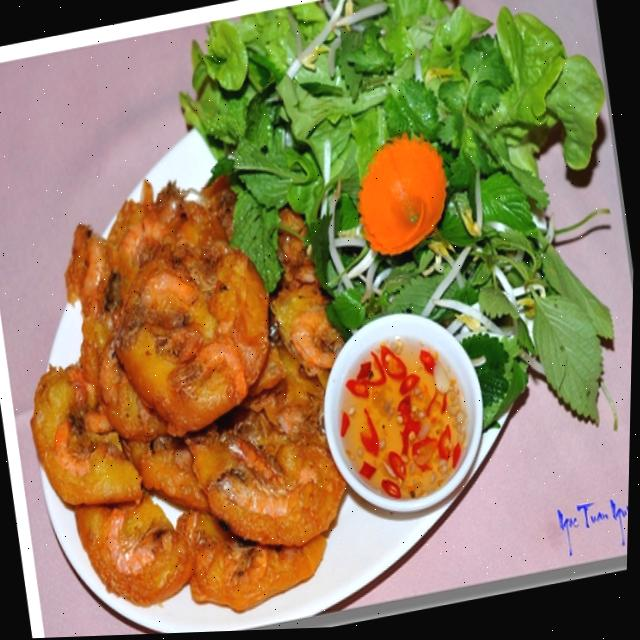炸货点心: (0, 11, 622, 640)
熟制海鲜: (0, 11, 622, 640)
